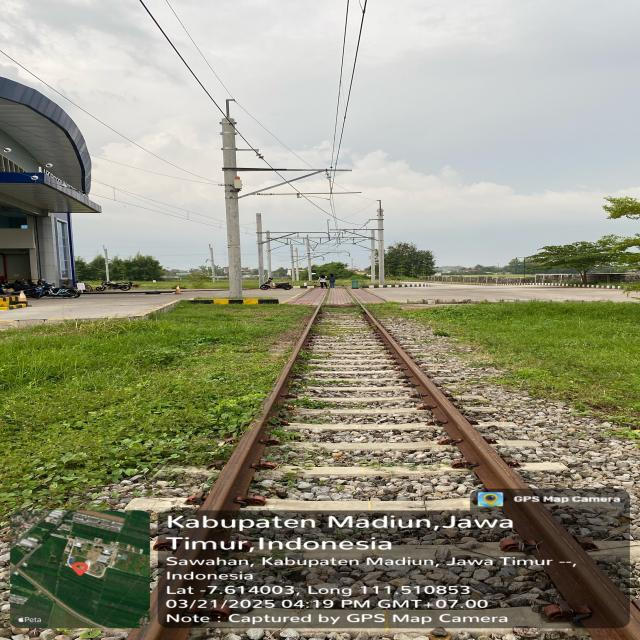rail-detection: (365, 310, 640, 640), (200, 322, 312, 515)
